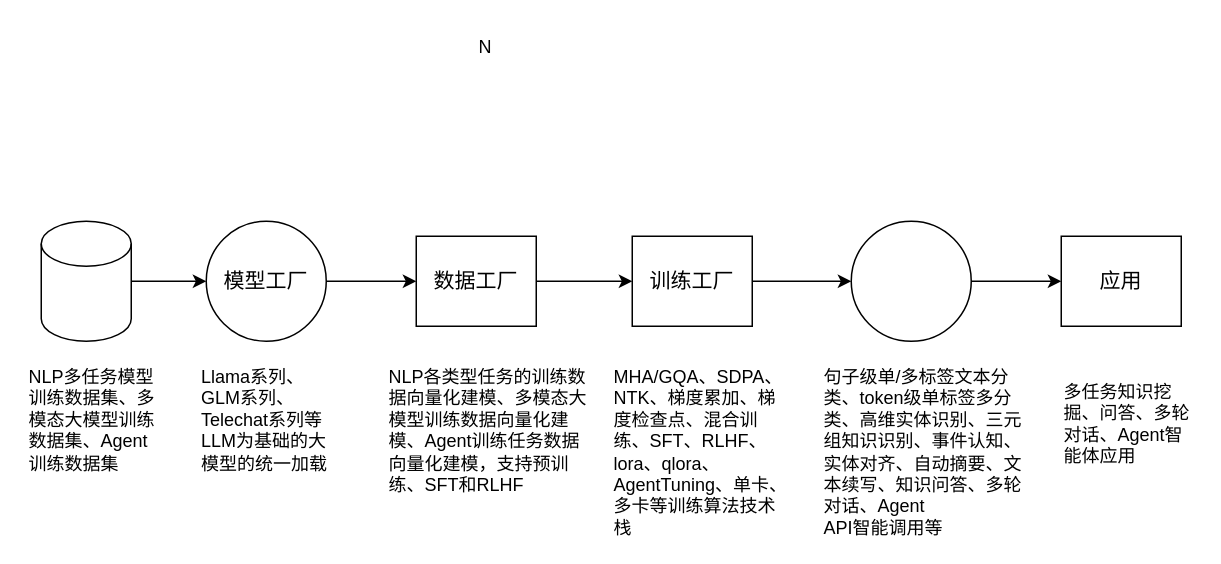
Some shapes in this 1221 by 564 pixel diagram are drawn without their labels. The shapes that lost their labels are listed below. From the top down, each one's centre as x and y in pixels, then its label:
At pixel 85 280: "训练 数据 集".
At pixel 910 280: "算法产品".
